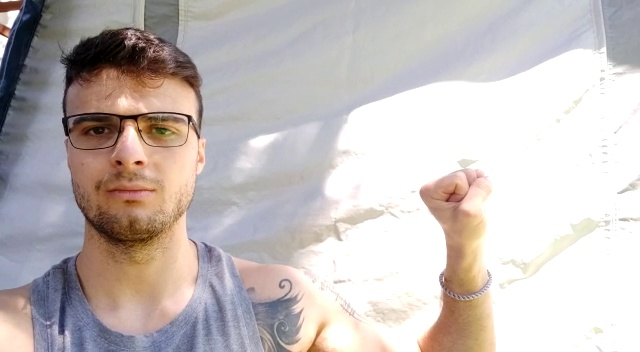Fist: (417, 163, 495, 247)
